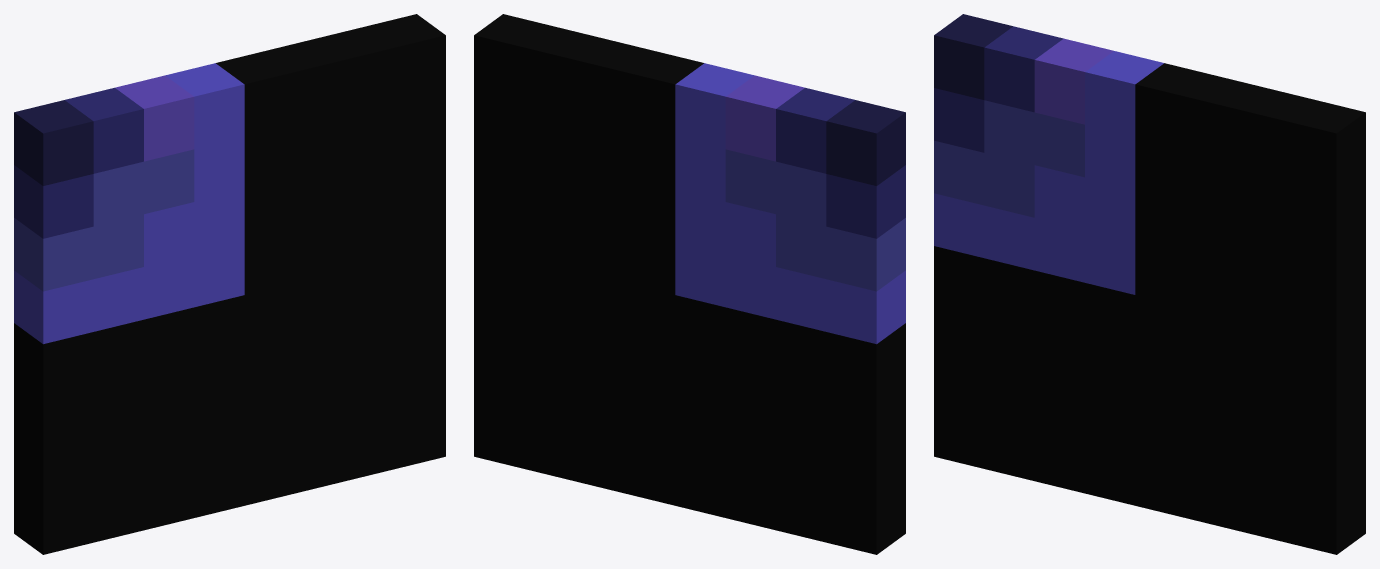
Rendered from 101_Piece10_15_0.obj.
3 views of the same model, side by side, from view 1: azimuth 30°, elevation 25°; view 2: azimuth 150°, elevation 25°; view 3: azimuth 330°, elevation 25° (orthographic).
Parts seen in each view (by area): view 1: 101_Piece10_15_0; view 2: 101_Piece10_15_0; view 3: 101_Piece10_15_0.
Part boxes in pixels (box(x1,y1,x2,y2)): 101_Piece10_15_0: box(14, 14, 445, 554); 101_Piece10_15_0: box(474, 14, 905, 554); 101_Piece10_15_0: box(934, 14, 1365, 554).
Bounding box in the file's own units: 8 × 8 × 1.
Materials: 1 (1 with a texture image).
